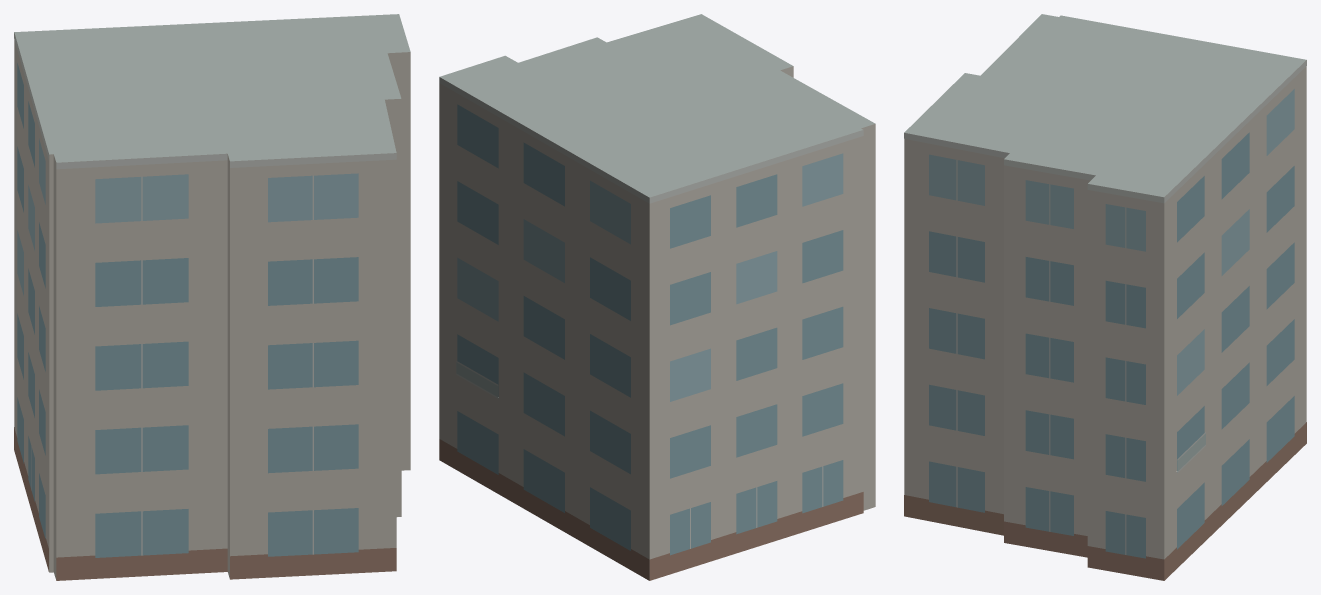
File: survey-upis-32695734.glb
The picture shows the model from 3 angles, left to right: view 1: azimuth 30°, elevation 25°; view 2: azimuth 150°, elevation 25°; view 3: azimuth 270°, elevation 25°; orthographic projection. The views are drawn at different scales.
Visible parts, largest first — view 1: survey-upis-32695734.tmp; view 2: survey-upis-32695734.tmp; view 3: survey-upis-32695734.tmp.
Part boxes in pixels (x1,y1,x2,y2): survey-upis-32695734.tmp: [14, 14, 410, 580]; survey-upis-32695734.tmp: [439, 14, 875, 580]; survey-upis-32695734.tmp: [904, 14, 1306, 580].
Size of the model in its own units: 15.79 by 15.4 by 14.66.
